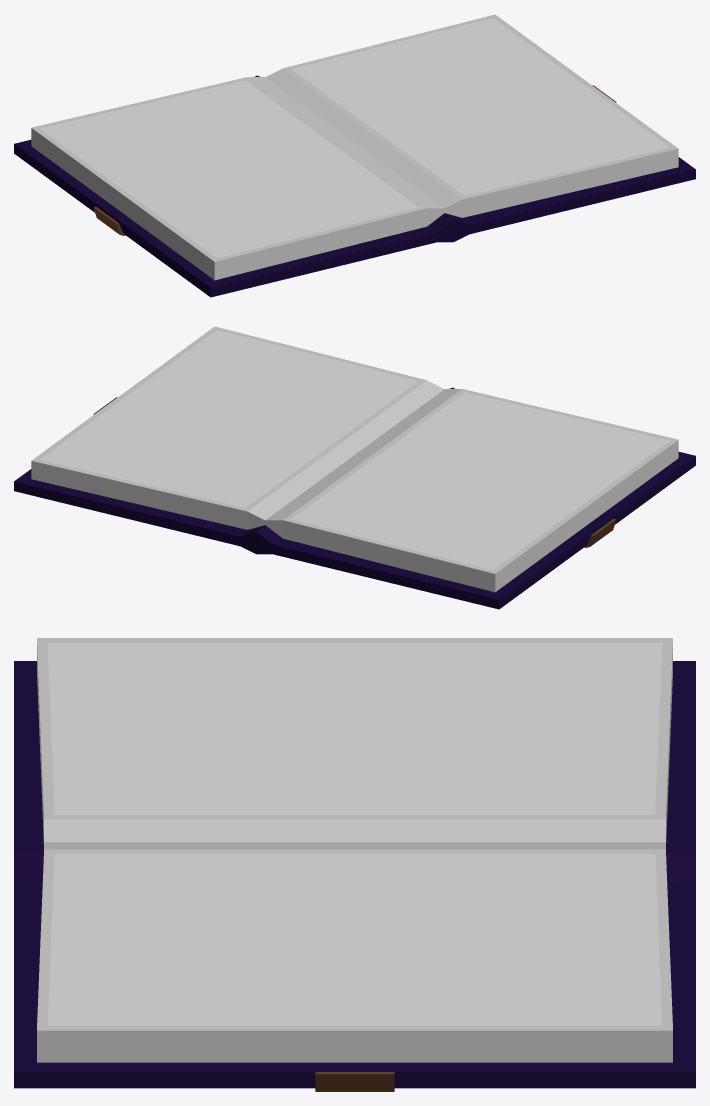
File: AgendaOpenV1Blue.fbx
The picture shows the model from 3 angles, top to bottom: view 1: azimuth 30°, elevation 25°; view 2: azimuth 150°, elevation 25°; view 3: azimuth 270°, elevation 25°; orthographic projection. The views are drawn at different scales.
Visible parts, largest first — view 1: AgendaOpenV1Blue; view 2: AgendaOpenV1Blue; view 3: AgendaOpenV1Blue.
Part boxes in pixels (x1,y1,x2,y2): AgendaOpenV1Blue: (14,14,695,297); AgendaOpenV1Blue: (14,326,695,609); AgendaOpenV1Blue: (14,638,695,1091).
Bounding box in the file's own units: 27.65 × 1.75 × 18.84.
